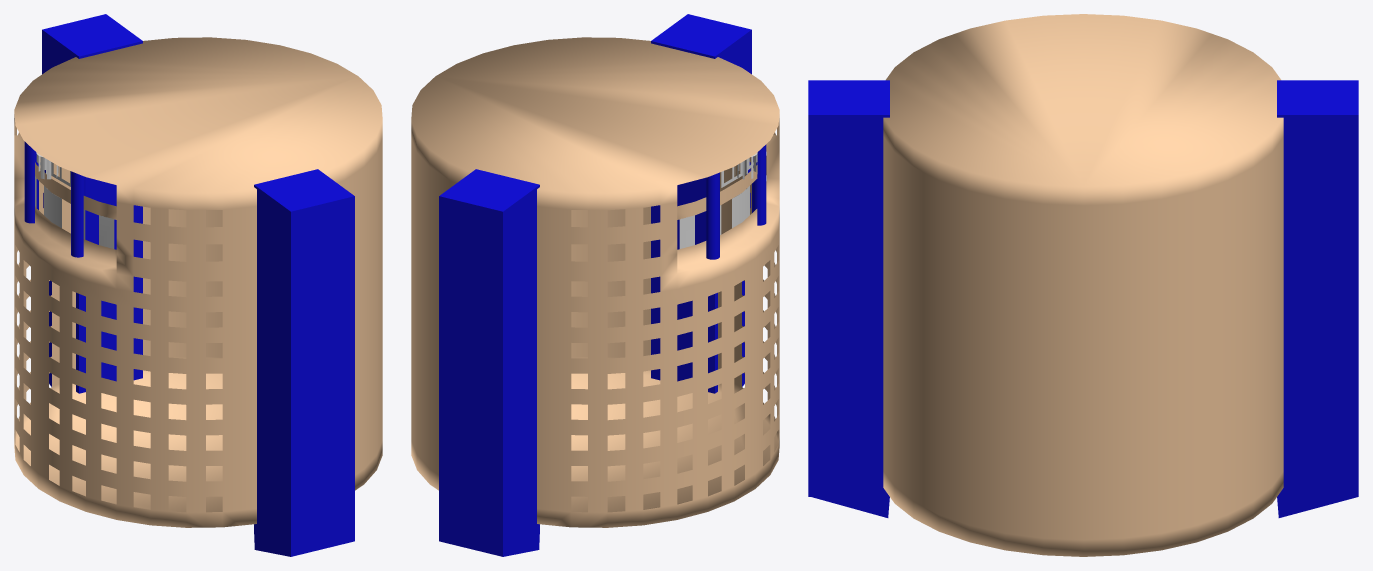
The model's file is inge.fbx.
The picture shows the model from 3 angles, left to right: view 1: azimuth 30°, elevation 25°; view 2: azimuth 150°, elevation 25°; view 3: azimuth 270°, elevation 25°; orthographic projection. The views are drawn at different scales.
Parts seen in each view (by area): view 1: Cylinder, Cube, Cylinder.001, Cylinder.002; view 2: Cylinder, Cube, Cylinder.002, Cylinder.001; view 3: Cylinder, Cube.
Boxes of the visible parts, x1,y1,x2,y2 form: Cylinder: [14, 37, 382, 527]; Cube: [42, 14, 354, 556]; Cylinder.001: [71, 171, 85, 257]; Cylinder.002: [24, 141, 38, 223]; Cylinder: [411, 37, 779, 527]; Cube: [439, 14, 751, 556]; Cylinder.002: [705, 172, 719, 259]; Cylinder.001: [752, 144, 766, 225]; Cylinder: [883, 14, 1283, 556]; Cube: [808, 80, 1358, 517].
Bounding box in the file's own units: 200 × 218 × 269.
